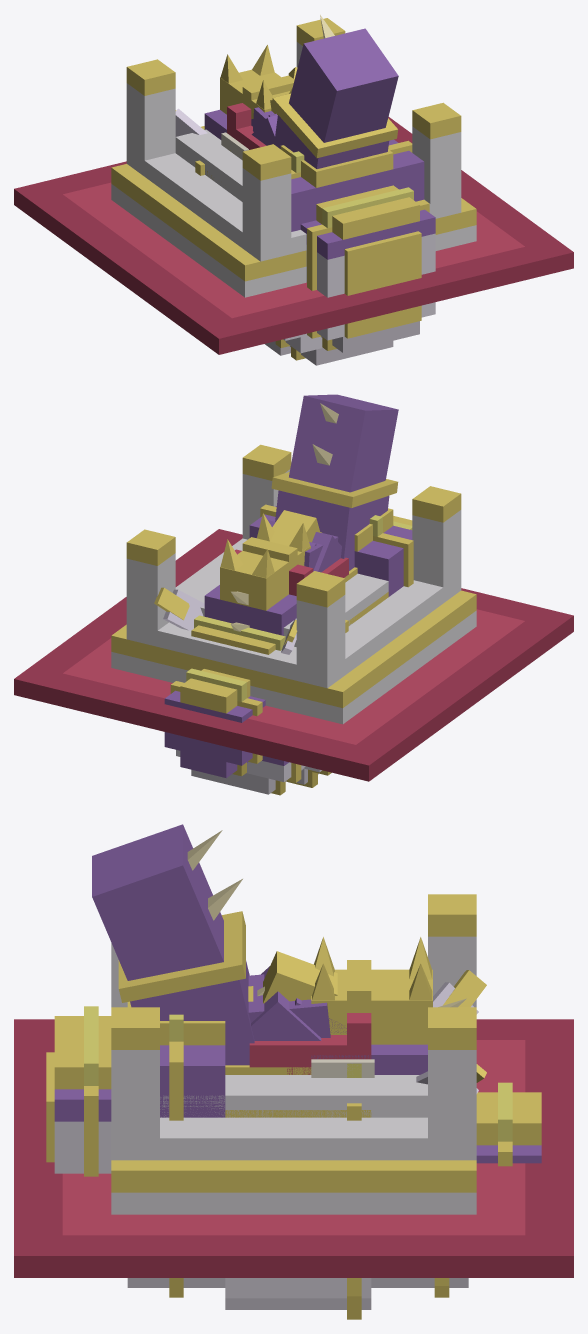
File: Trainer8.glb
The picture shows the model from 3 angles, top to bottom: view 1: azimuth 30°, elevation 25°; view 2: azimuth 150°, elevation 25°; view 3: azimuth 270°, elevation 25°; orthographic projection. The views are drawn at different scales.
Visible parts, largest first — view 1: Stand, Body, Head, T1; view 2: Stand, Body, Head, Fin, T1; view 3: Stand, Body, Head, Fin, T1, T2.
Boxes of the visible parts, box(x1,y1,x2,y2) form: Stand: box(14, 18, 573, 354); Body: box(195, 14, 435, 365); Head: box(175, 45, 297, 160); T1: box(251, 115, 277, 145); Stand: box(14, 444, 573, 781); Body: box(164, 394, 413, 795); Head: box(154, 513, 310, 654); Fin: box(270, 510, 321, 545); T1: box(268, 520, 341, 572); Stand: box(14, 894, 573, 1277); Body: box(46, 824, 541, 1319); Head: box(287, 937, 486, 1093); Fin: box(248, 951, 337, 1003); T1: box(251, 966, 321, 1040); T2: box(248, 974, 330, 1037).
Bounding box in the file's own units: 9.2 × 8.36 × 9.2.
